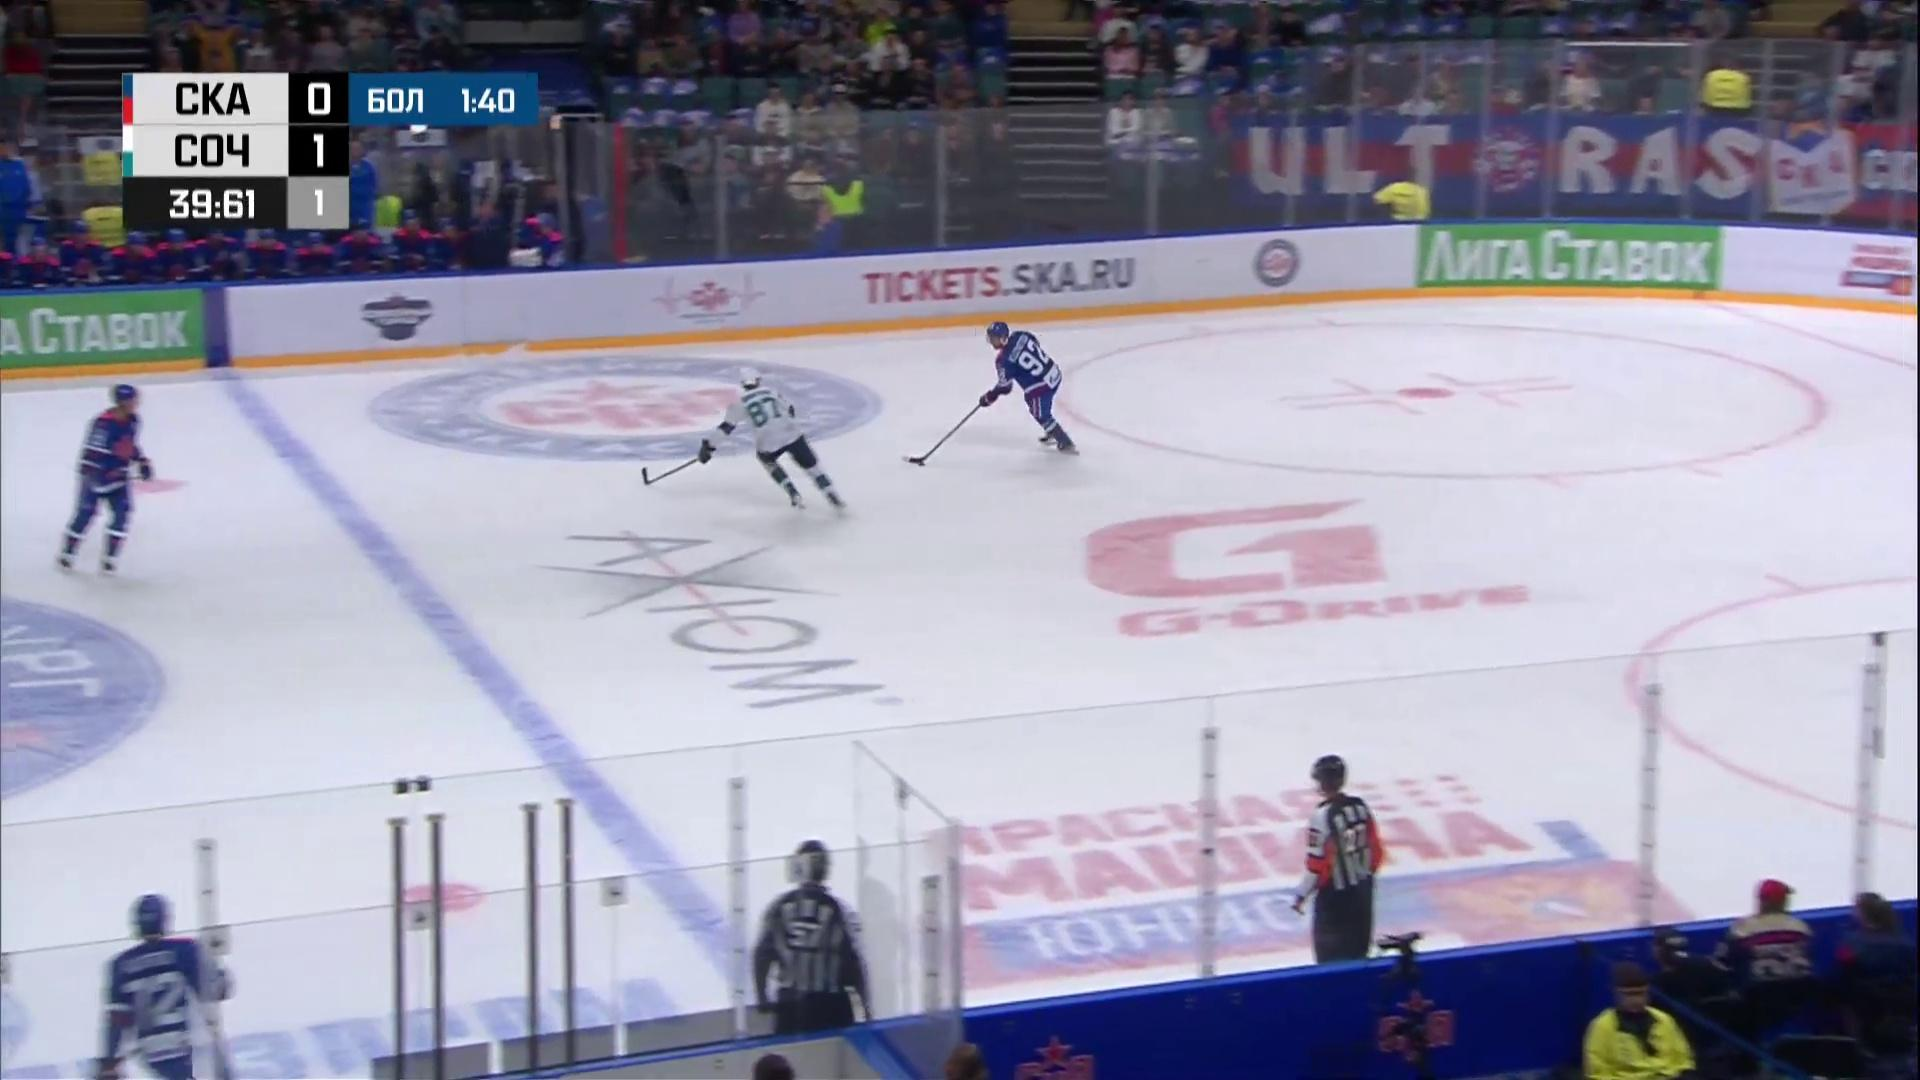ball: (918, 463, 926, 467)
